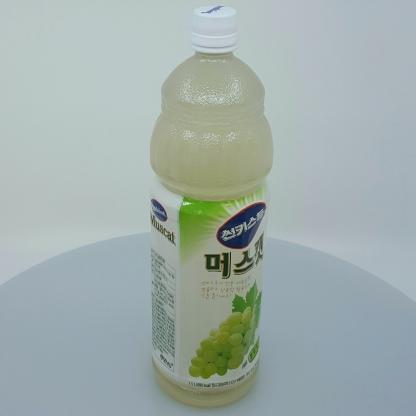-------1-5L: (149, 5, 274, 407)
